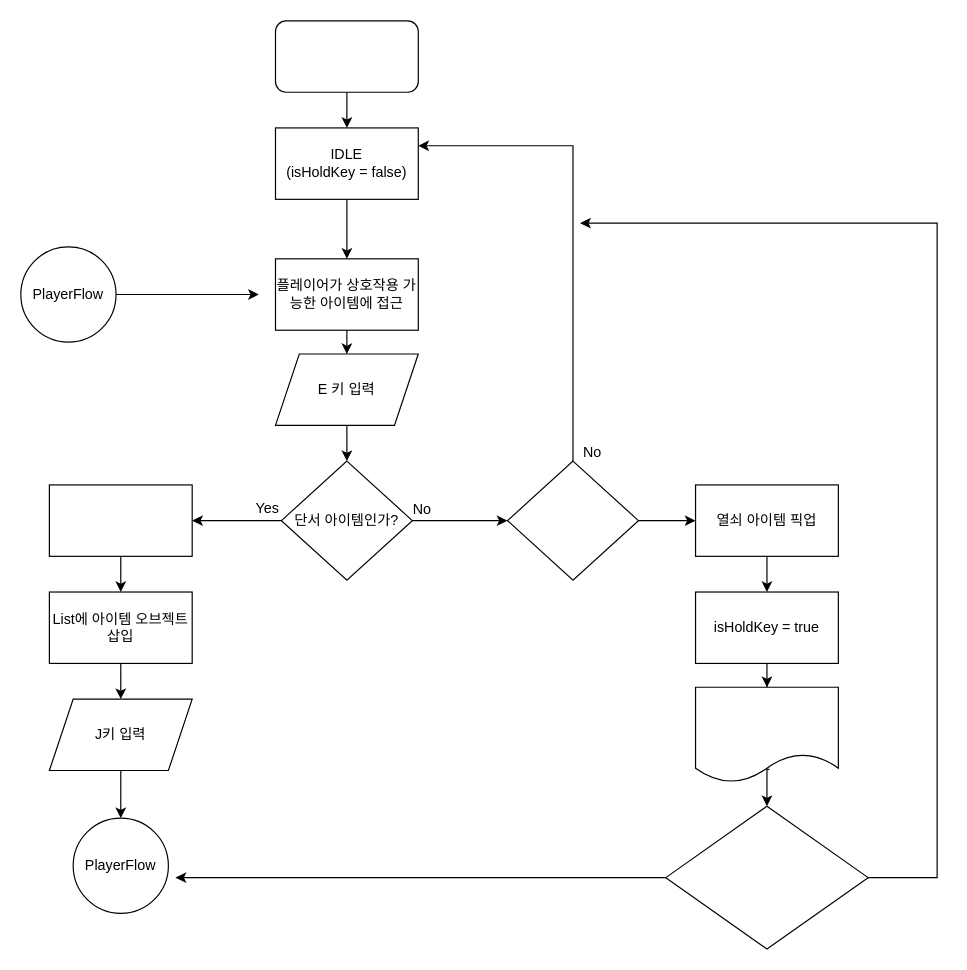
This 967x970 diagram has some shape labels left out. Here are the shapes that lost their labels. From the top down, the centre of each, then its label:
At point 346,56: "시작".
At point 120,520: "단서 아이템 픽업".
At point 572,520: "열쇠 아이템인가?".
At point 766,734: "화면 우측 상단에 열쇠 모양 아이콘 생성".
At point 766,877: "상호작용 가능한 문에 접근했는가?".
